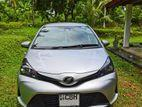car: (17, 23, 119, 107)
